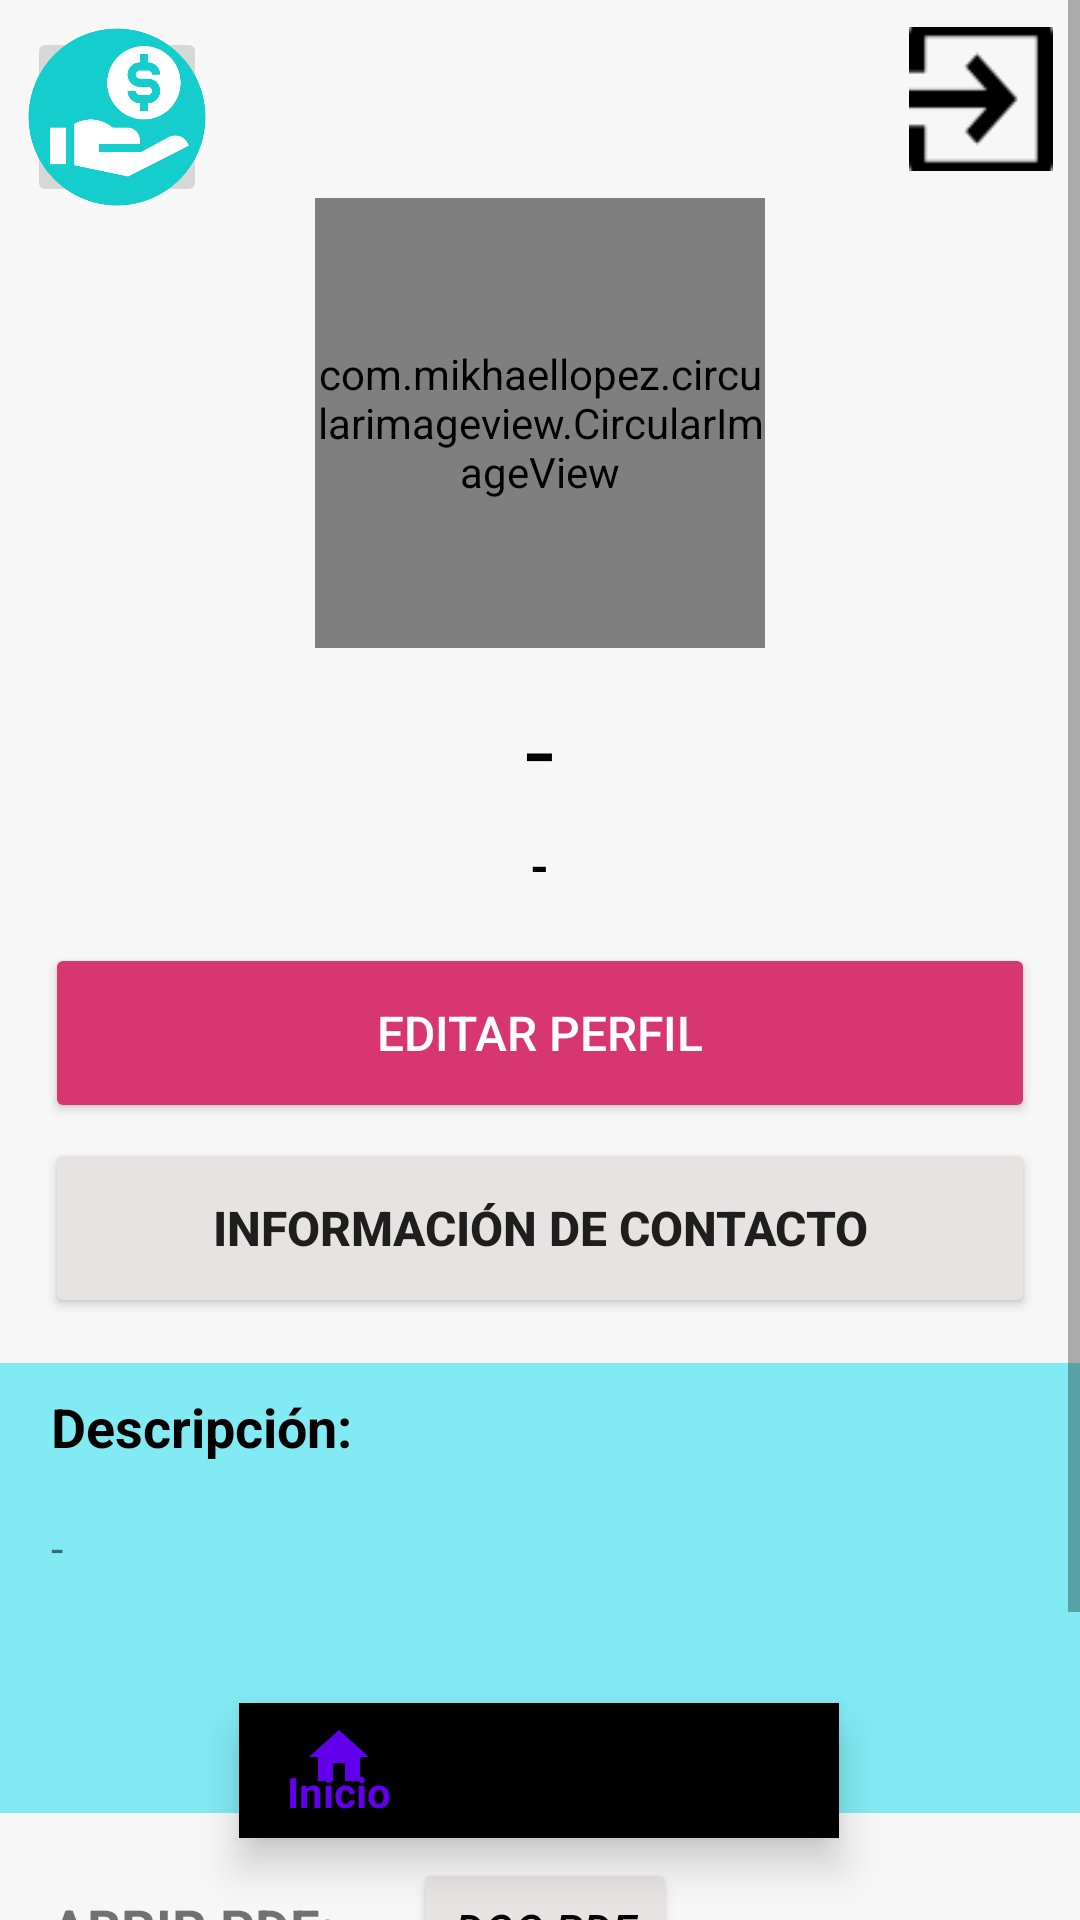

Icon bounding boxes for this 1080x1920 phone screenshot, format [x1, y1, x2, y2]:
Log Out: [909, 27, 1053, 171]
